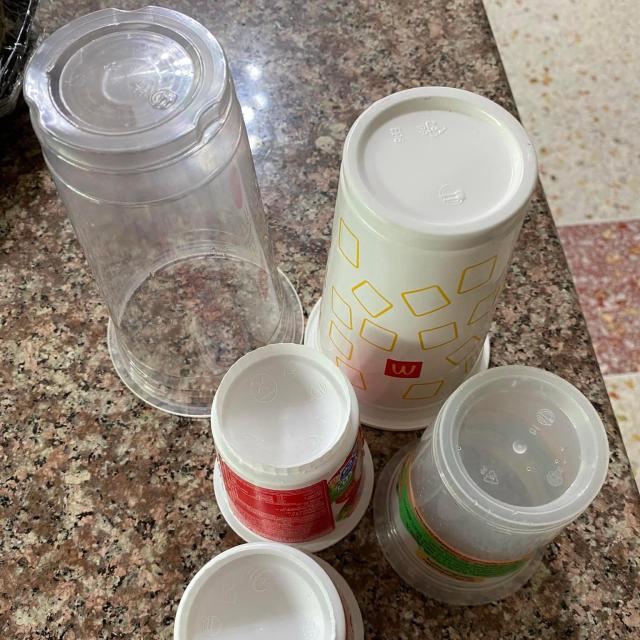Single-Use-Plastic: (25, 8, 301, 417), (305, 88, 538, 430), (375, 366, 609, 605), (211, 344, 372, 551), (174, 542, 364, 640)
